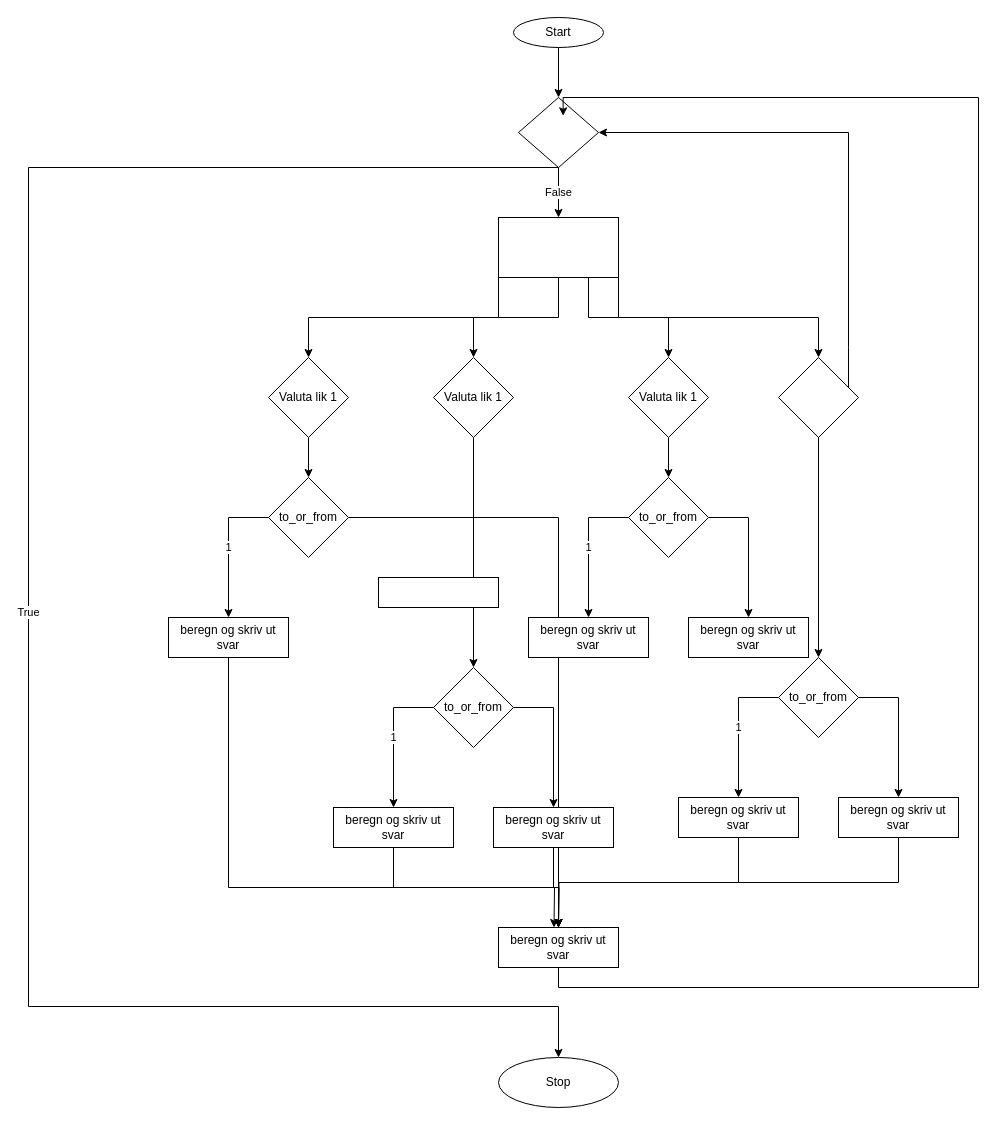
Some shapes in this 1004 by 1125 pixel diagram are drawn without their labels. Here are the shapes that lost their labels. From the top down, the centre of each, then its label:
At point (558, 132): "Valuta lik 4".
At point (558, 247): "Input Valuta".
At point (818, 397): "else".
At point (438, 592): "Skriv ut svar".
